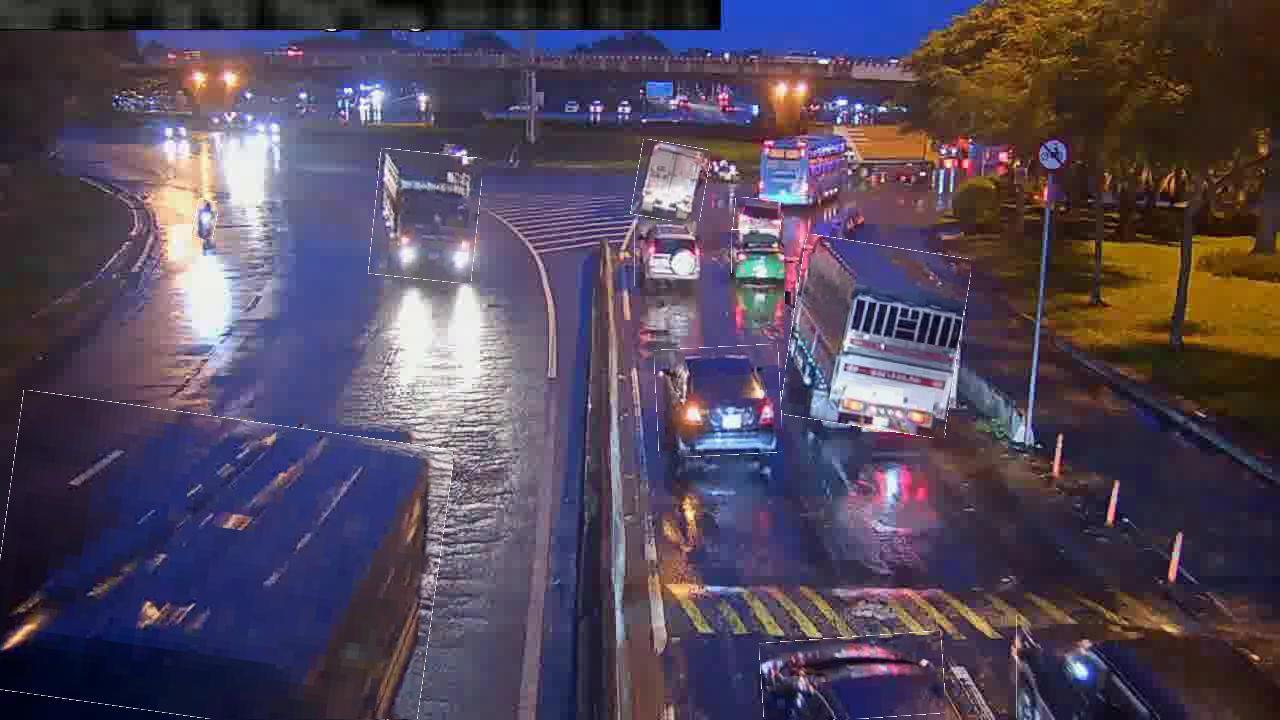car: (1016, 615, 1279, 719), (760, 634, 946, 719), (656, 346, 782, 457), (634, 221, 701, 287), (731, 229, 784, 274), (733, 198, 782, 238)
container: (0, 404, 445, 719), (786, 240, 966, 434), (371, 150, 480, 282), (633, 142, 708, 223)
motorbike: (193, 199, 218, 240)
